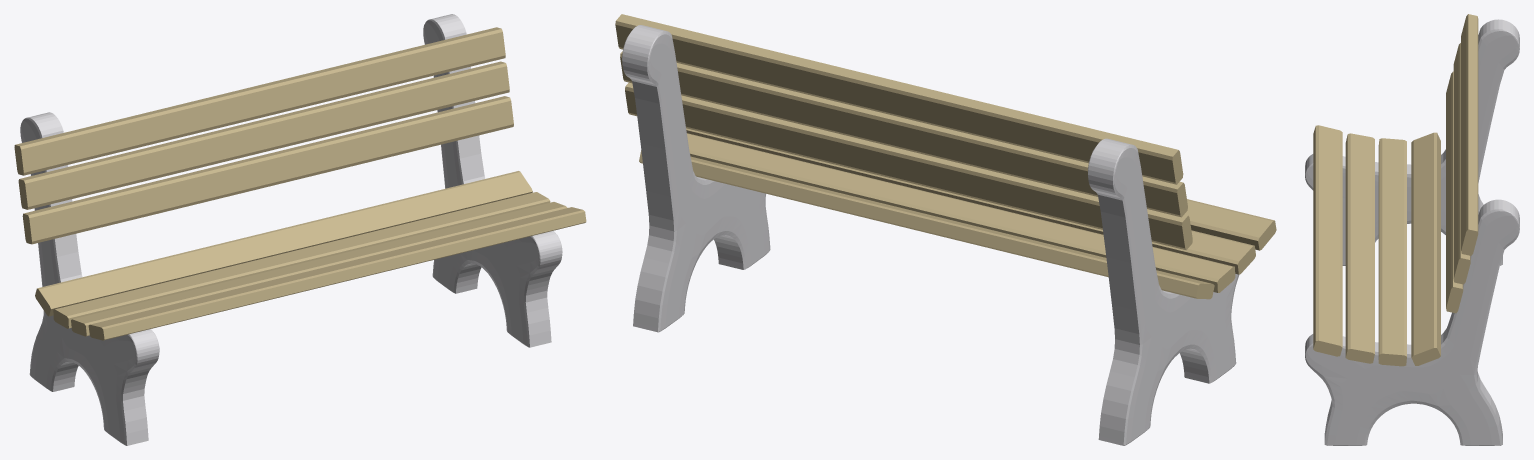
File: concrete-bench.glb
3 views of the same model, side by side, from view 1: azimuth 30°, elevation 25°; view 2: azimuth 150°, elevation 25°; view 3: azimuth 270°, elevation 25° (orthographic). The views are drawn at different scales.
Bounding box in the file's own units: 14.22 × 7.29 × 6.
